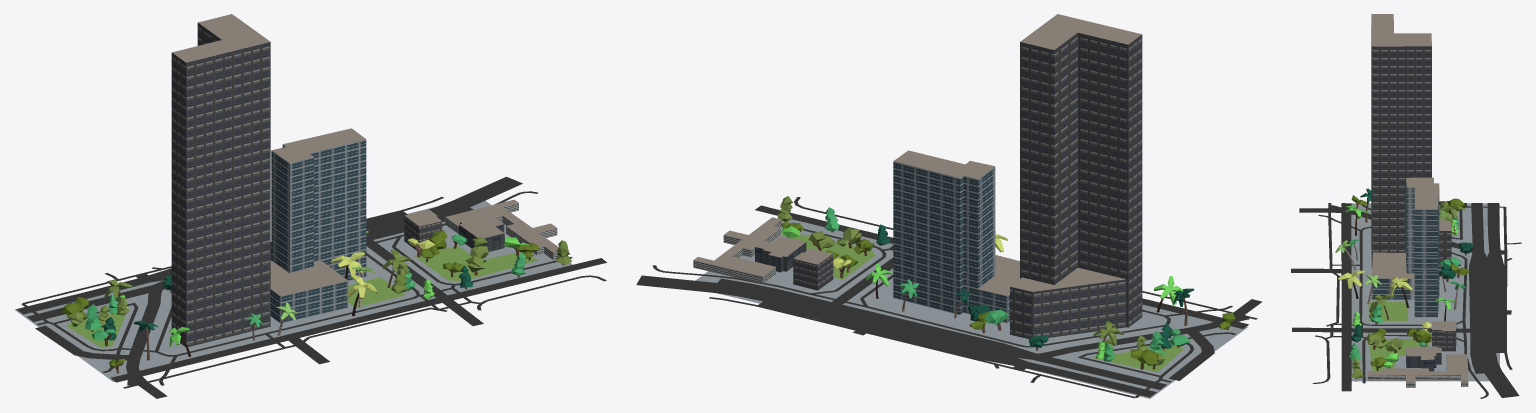
Rendered from BC_Env6.fbx.
The picture shows the model from 3 angles, left to right: view 1: azimuth 30°, elevation 25°; view 2: azimuth 150°, elevation 25°; view 3: azimuth 270°, elevation 25°; orthographic projection. The views are drawn at different scales.
Parts seen in each view (by area): view 1: BC_Env6; view 2: BC_Env6; view 3: BC_Env6.
Part boxes in pixels (x1,y1,x2,y2): BC_Env6: (15,14,606,398); BC_Env6: (636,14,1262,398); BC_Env6: (1291,14,1521,398).
Bounding box in the file's own units: 8891 × 4738 × 4380.
